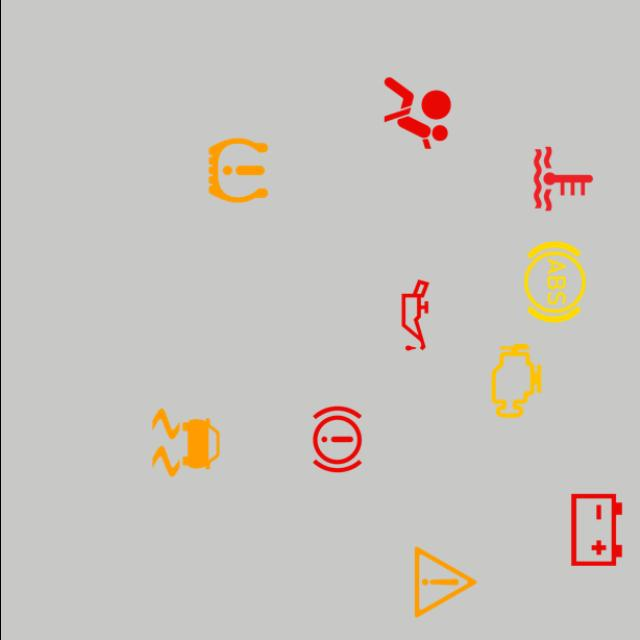Anti Lock Braking System: (510, 238, 598, 326)
Braking System Issue: (292, 396, 380, 484)
Charging System Issue: (552, 486, 640, 574)
Check Engine: (472, 336, 560, 426)
Electronic Stability Problem -ESP-: (141, 398, 229, 486)
Engine Overheating Warning Light: (518, 135, 606, 223)
Low Engine Oil Warning Light: (371, 272, 458, 360)
Low Tire Pressure Warning Light: (193, 126, 281, 215)
Master warning light: (401, 538, 488, 626)
SRS-Airbag: (372, 69, 460, 157)
